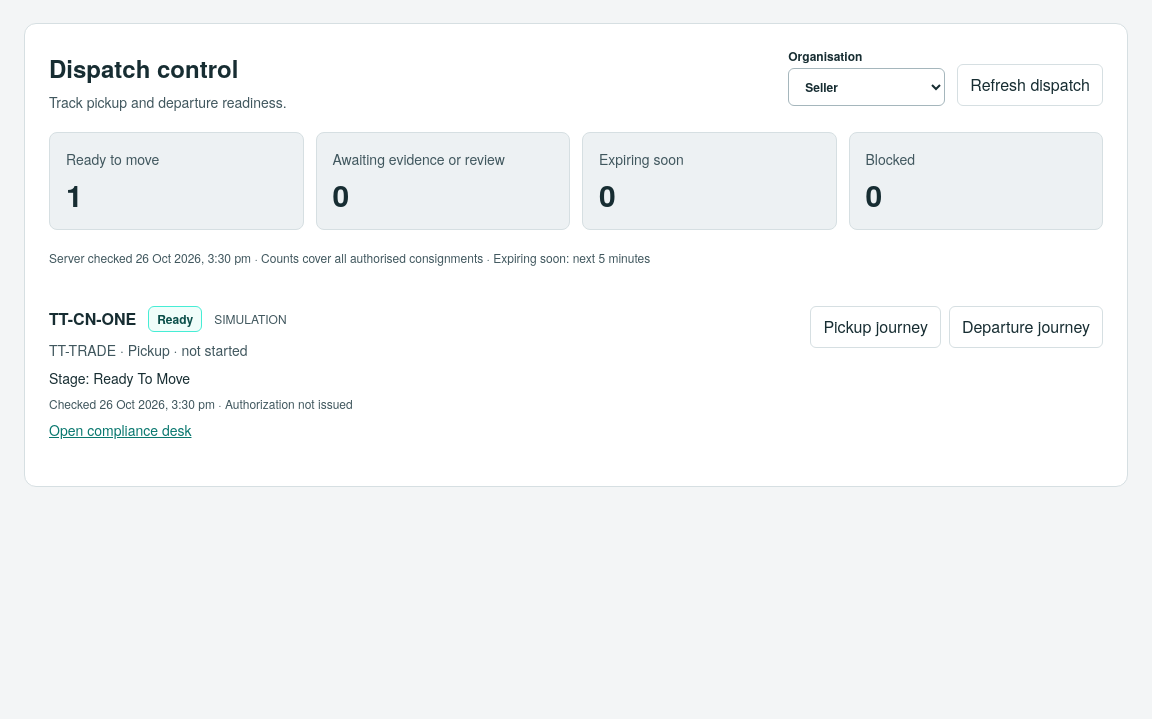
Test: renders live counts and separate five-panel journeys without movement commands
The image size is (1152, 719).
Check: the heading "TT-CN-ONE" is shown, box [49,307,136,331]
Click the button with aria-label "Pickup journey for TT-CN-ONE" at (876, 327), box [810,306,941,348]
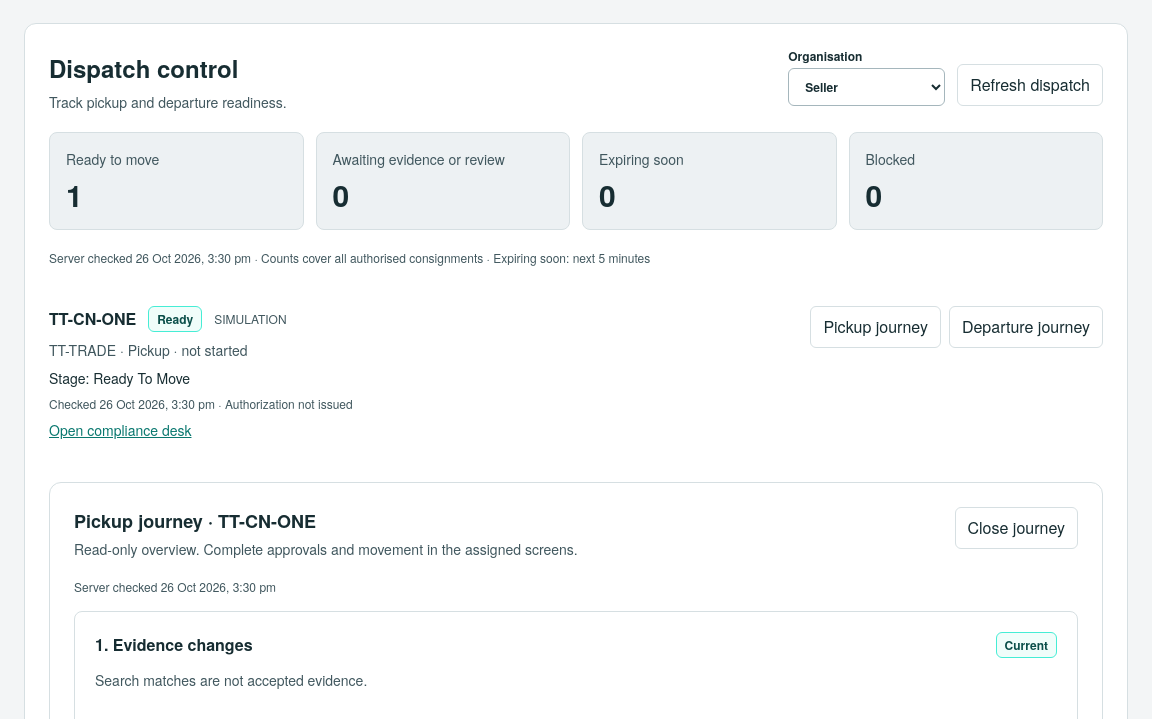
Check: the heading "1. Evidence changes" is shown, box [95,633,253,657]
Click the button with aria-label "Departure journey for TT-CN-ONE" at (1026, 327), box [949,306,1103,348]
(page scrolled)
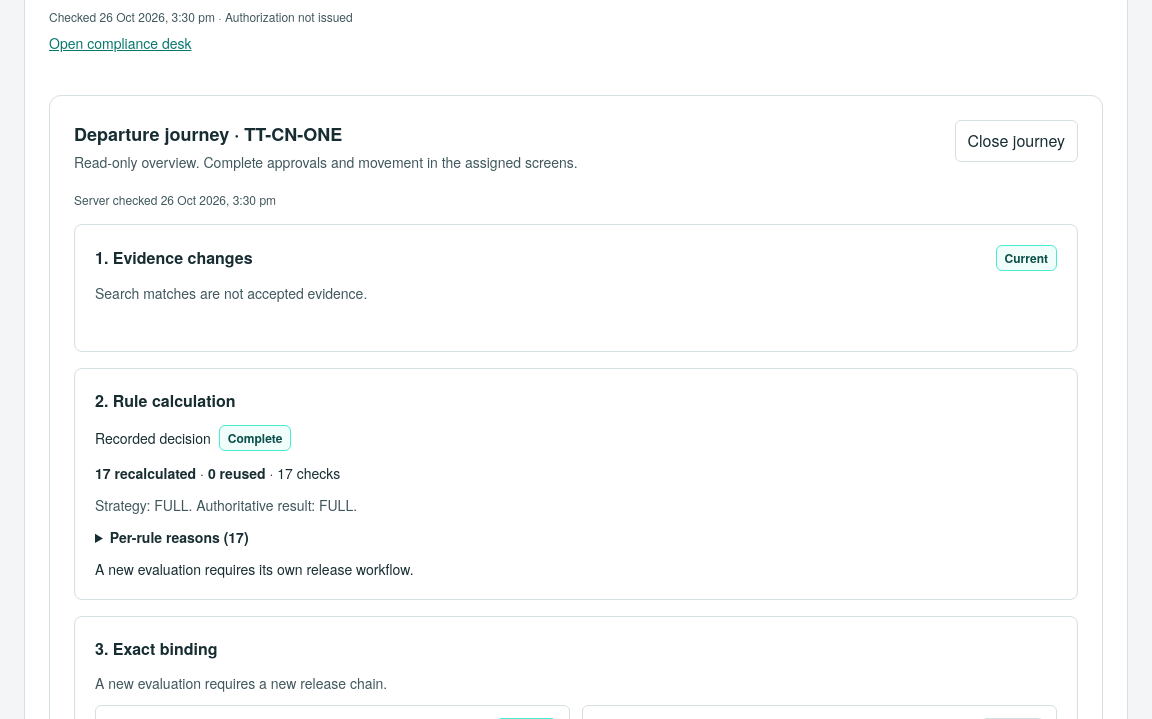
Check: the heading "Departure journey · TT-CN-ONE" is shown, box [74,121,342,147]
